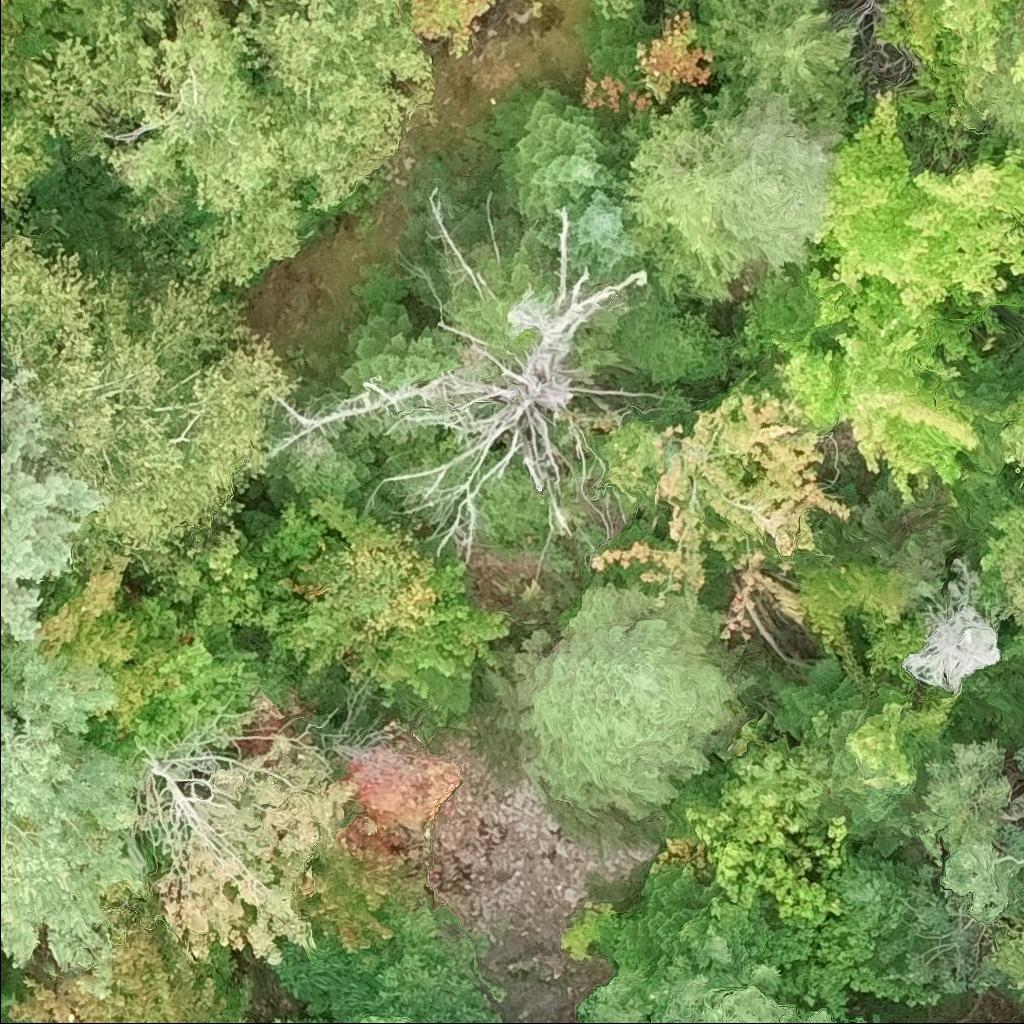crown: (0, 0, 440, 584), (262, 208, 646, 568), (21, 0, 440, 297), (0, 233, 301, 584), (507, 578, 750, 833), (130, 738, 361, 965), (260, 497, 505, 710), (773, 273, 983, 509), (0, 642, 142, 974), (828, 88, 1023, 316), (0, 354, 109, 645), (617, 103, 761, 305), (686, 719, 828, 922), (310, 754, 456, 950), (14, 902, 241, 1023), (42, 558, 171, 735), (586, 943, 863, 1023), (119, 594, 253, 756), (485, 91, 621, 235), (336, 906, 497, 1023), (701, 0, 863, 104), (585, 11, 717, 116), (0, 35, 74, 218), (907, 558, 1001, 698), (612, 862, 715, 988), (882, 0, 1023, 79), (847, 695, 956, 794), (341, 303, 464, 386), (569, 176, 655, 281), (318, 541, 422, 621), (283, 435, 371, 508), (965, 43, 1023, 140), (403, 0, 496, 56), (989, 512, 1023, 630), (990, 401, 1023, 466), (999, 934, 1023, 990), (600, 0, 631, 14), (168, 0, 207, 9), (1014, 28, 1023, 50), (391, 1019, 414, 1023), (273, 1021, 290, 1023), (357, 1021, 371, 1023)
